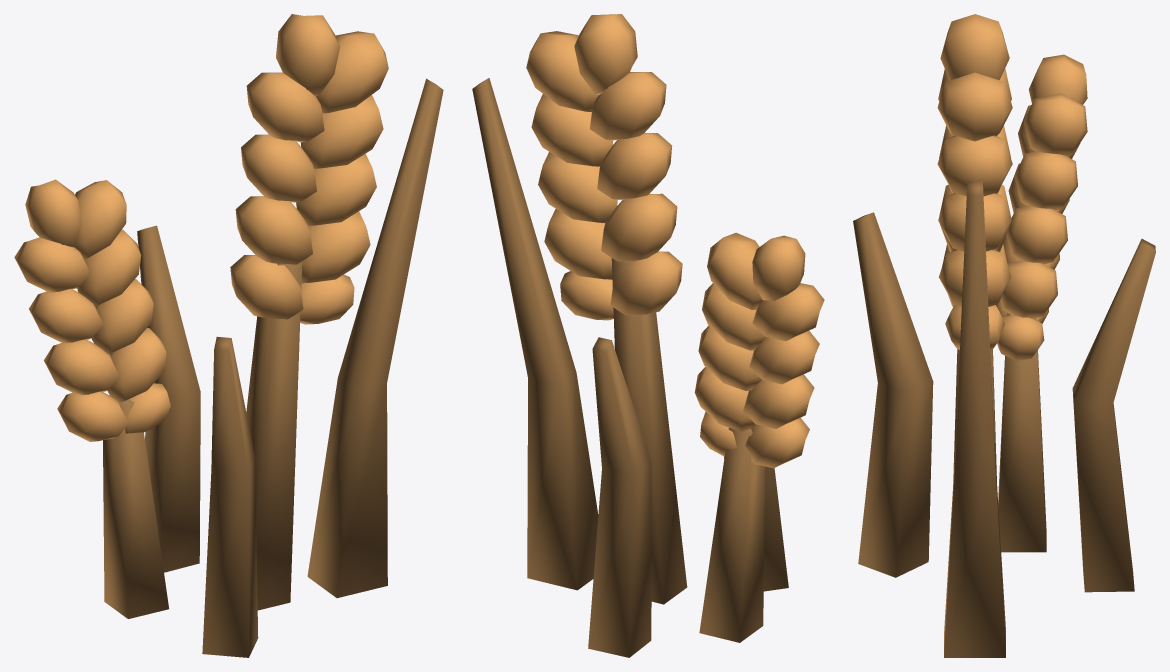
The model's file is Wheat.fbx.
The picture shows the model from 3 angles, left to right: view 1: azimuth 30°, elevation 25°; view 2: azimuth 150°, elevation 25°; view 3: azimuth 270°, elevation 25°; orthographic projection. The views are drawn at different scales.
Parts seen in each view (by area): view 1: Cube.001, Cube.019, Cube.003, Cube.005, Cube.004, Cube.002, Cube.006; view 2: Cube.001, Cube.003, Cube.019, Cube.004, Cube.006, Cube.002, Cube.005; view 3: Cube.005, Cube.003, Cube.001, Cube.019, Cube.004, Cube.006, Cube.002.
Boxes of the visible parts, bbox=[...] form: Cube.001: bbox=[230, 14, 388, 324]; Cube.019: bbox=[14, 179, 170, 441]; Cube.003: bbox=[307, 78, 443, 598]; Cube.005: bbox=[202, 336, 258, 657]; Cube.004: bbox=[137, 225, 200, 572]; Cube.002: bbox=[246, 261, 302, 610]; Cube.006: bbox=[103, 399, 168, 618]; Cube.001: bbox=[526, 14, 682, 320]; Cube.003: bbox=[472, 78, 598, 590]; Cube.019: bbox=[694, 232, 824, 468]; Cube.004: bbox=[588, 337, 651, 657]; Cube.006: bbox=[699, 427, 764, 642]; Cube.002: bbox=[611, 258, 687, 604]; Cube.005: bbox=[724, 456, 788, 591]; Cube.005: bbox=[853, 212, 933, 577]; Cube.003: bbox=[944, 181, 1005, 657]; Cube.001: bbox=[937, 14, 1012, 349]; Cube.019: bbox=[997, 54, 1087, 360]; Cube.004: bbox=[1072, 239, 1155, 592]; Cube.006: bbox=[998, 313, 1046, 552]; Cube.002: bbox=[953, 349, 996, 480].
Size of the model in its own units: 2.15 by 3.08 by 1.39.
